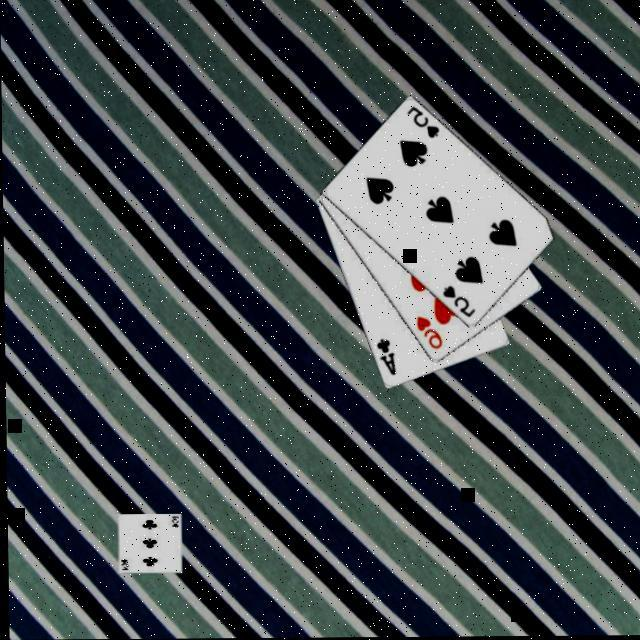5S: (437, 285, 475, 323), (403, 106, 441, 143)
9H: (411, 316, 443, 354)
AC: (372, 339, 396, 381)
